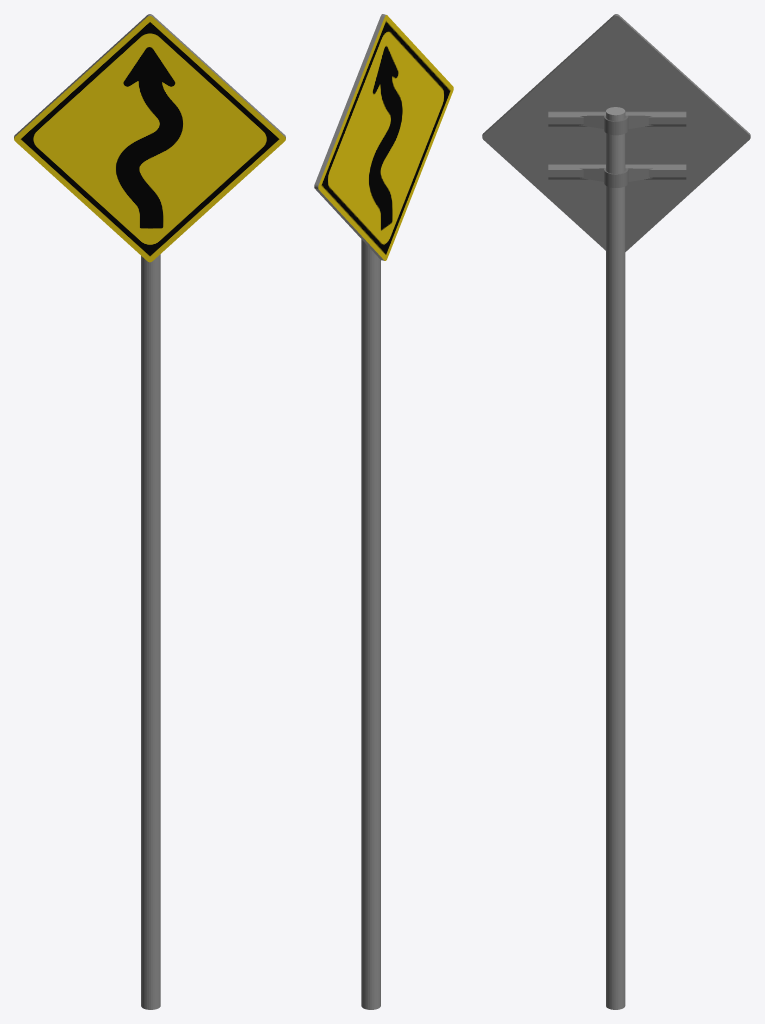
3 renders of one model, left to right at view 1: azimuth 90°, elevation 25°; view 2: azimuth 150°, elevation 25°; view 3: azimuth 270°, elevation 25°, orthographic.
Visible parts, largest first — view 1: 006, Prop; view 2: 006, Prop; view 3: 006, Prop.
Boxes of the visible parts, bbox=[...] form: 006: bbox=[14, 14, 285, 262]; Prop: bbox=[141, 254, 160, 1009]; 006: bbox=[314, 14, 453, 260]; Prop: bbox=[361, 239, 380, 1009]; 006: bbox=[482, 14, 750, 251]; Prop: bbox=[548, 107, 686, 1009].
Size of the model in its own units: 6.76 by 259 by 63.95.
